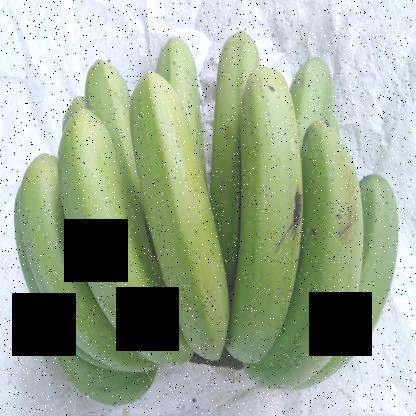freshunripe: (121, 74, 244, 373), (60, 104, 188, 369), (10, 145, 122, 349), (198, 26, 260, 288), (356, 168, 403, 357), (283, 58, 344, 150)
unripe: (222, 59, 306, 373), (289, 114, 368, 405)
